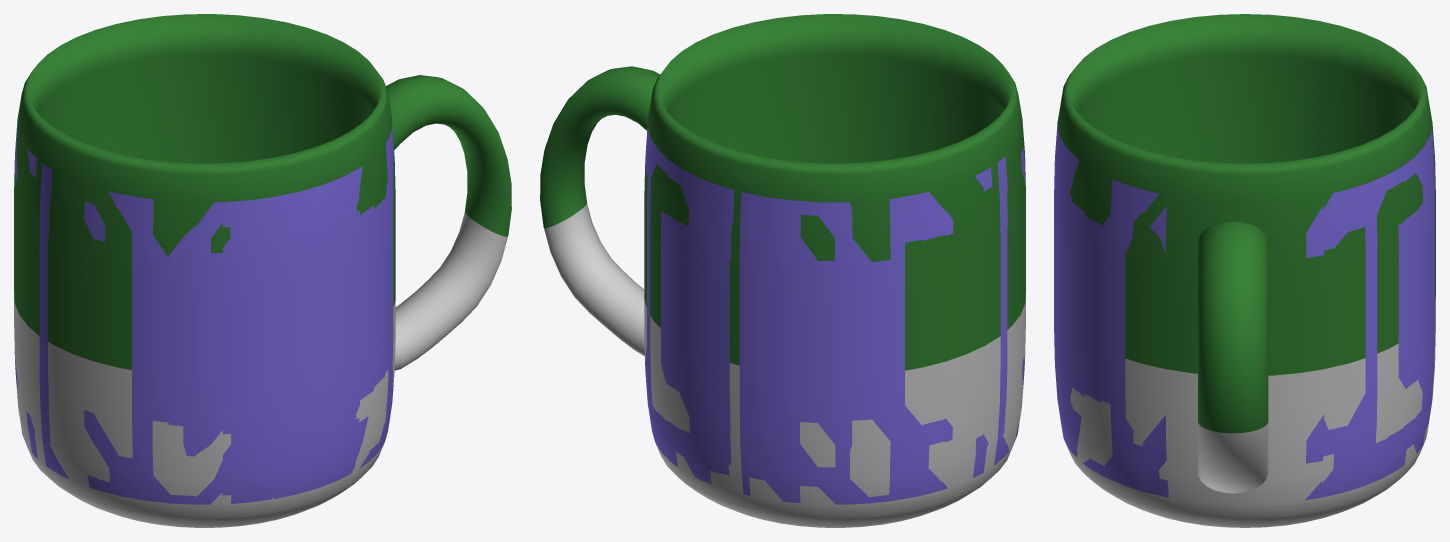
File: mug.glb
The picture shows the model from 3 angles, left to right: view 1: azimuth 30°, elevation 25°; view 2: azimuth 150°, elevation 25°; view 3: azimuth 270°, elevation 25°; orthographic projection.
Parts seen in each view (by area): view 1: Arc001; view 2: Arc001; view 3: Arc001.
Boxes of the visible parts, bbox=[...] form: Arc001: bbox=[14, 14, 511, 527]; Arc001: bbox=[540, 14, 1025, 527]; Arc001: bbox=[1054, 14, 1435, 527].
Size of the model in its own units: 4.25 by 3.42 by 3.07.
